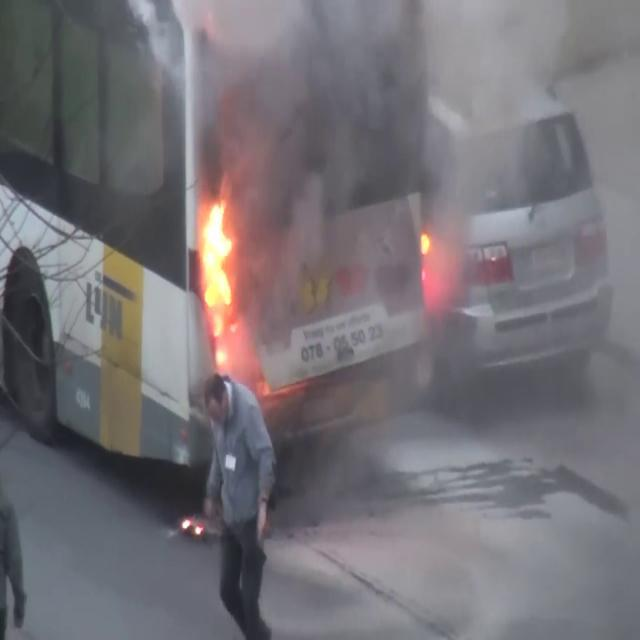Fire: (193, 190, 244, 366)
Smoke: (112, 0, 632, 273)
